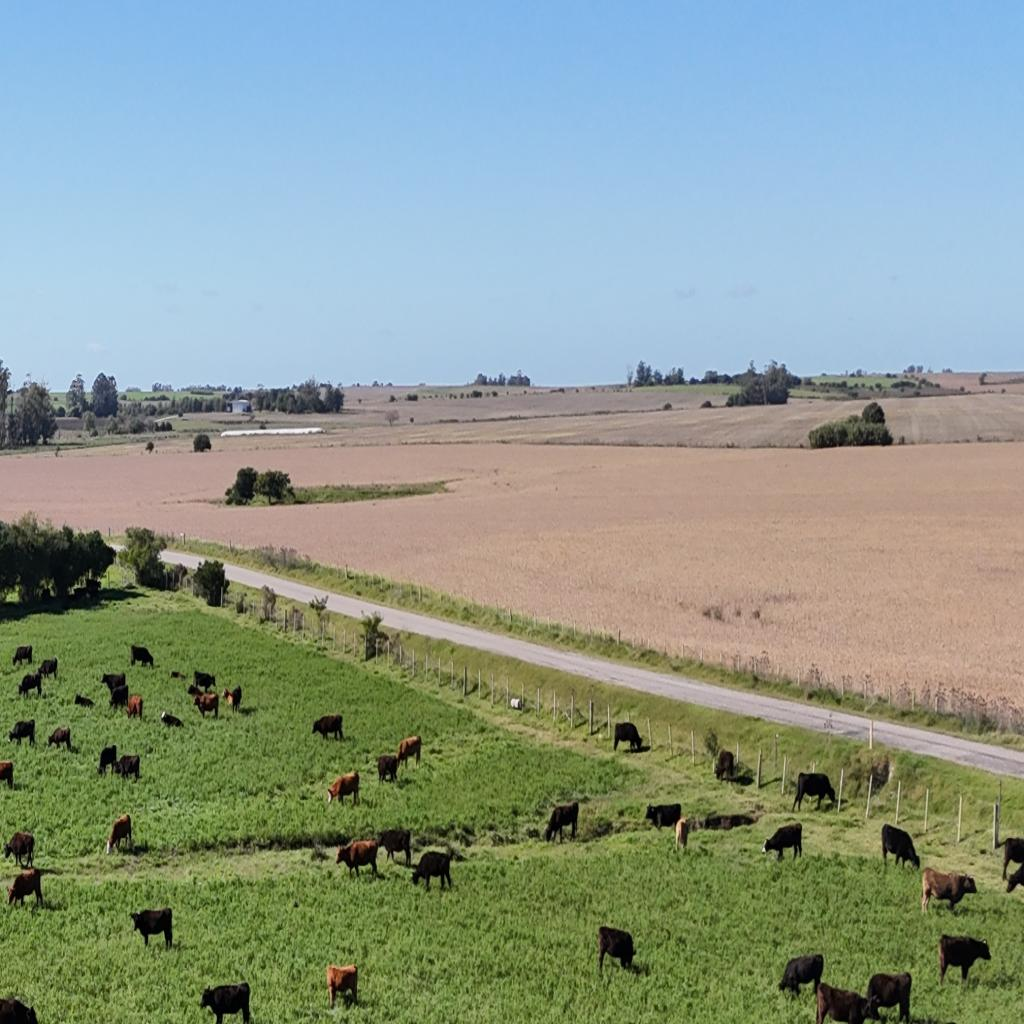cow: (938, 933, 992, 985), (817, 981, 880, 1024), (921, 867, 977, 914), (867, 972, 912, 1024), (199, 981, 250, 1024), (779, 954, 823, 998), (335, 838, 379, 880), (882, 823, 920, 870), (129, 906, 171, 948), (597, 926, 633, 974), (792, 772, 835, 812), (412, 850, 452, 892), (6, 868, 42, 911), (326, 962, 358, 1010), (762, 824, 802, 862), (543, 802, 577, 844), (376, 827, 410, 866), (326, 771, 360, 809), (4, 831, 36, 868), (104, 814, 132, 855), (700, 812, 758, 831), (1000, 836, 1024, 881), (0, 996, 37, 1024), (646, 802, 680, 831), (613, 722, 643, 753), (396, 735, 422, 770), (312, 713, 344, 741), (112, 754, 141, 784), (8, 719, 35, 749), (193, 692, 219, 721), (377, 754, 399, 786), (97, 744, 118, 777), (714, 749, 734, 783), (101, 671, 126, 697), (47, 726, 71, 752), (108, 684, 130, 712), (192, 670, 217, 694), (19, 673, 42, 699), (223, 685, 243, 714), (130, 644, 154, 668), (674, 817, 689, 852), (12, 644, 33, 668), (38, 657, 58, 682), (126, 694, 143, 721), (160, 710, 184, 729), (0, 760, 14, 790), (85, 578, 102, 598), (69, 587, 90, 602), (74, 694, 94, 708), (182, 672, 198, 687), (312, 716, 324, 736), (188, 683, 203, 697), (170, 670, 186, 679), (129, 646, 136, 666)
